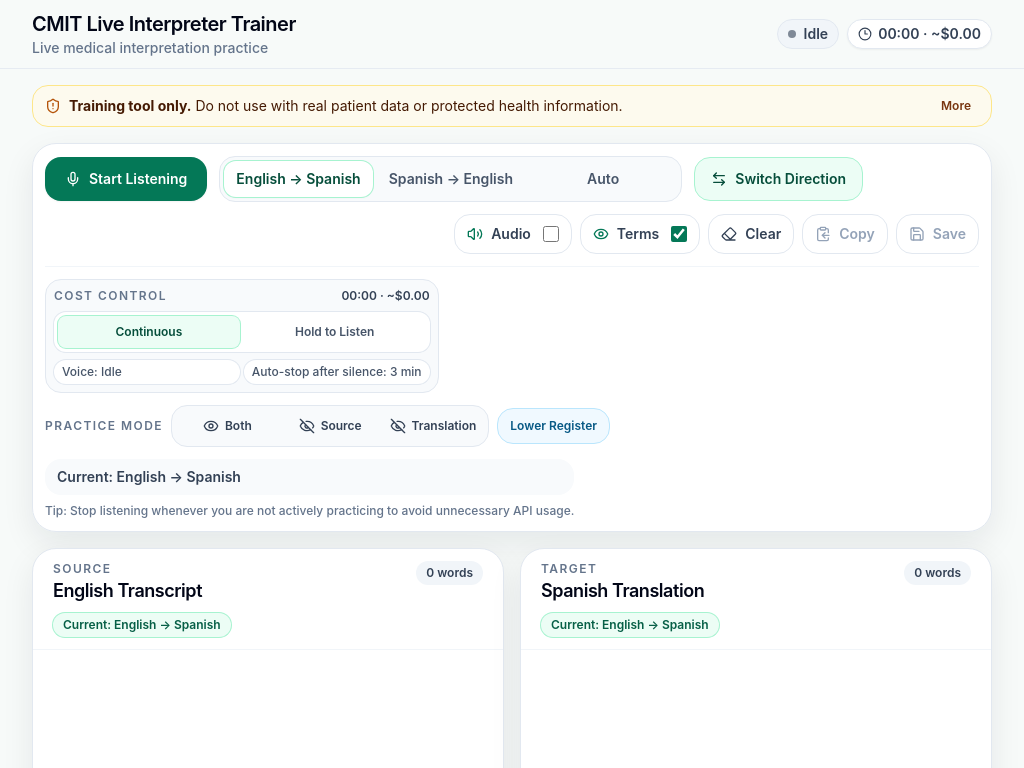
Test case: App microphone errors › shows an error when microphone permission fails
Click the button "Start Listening" at (126, 179), box [45,157,207,201]
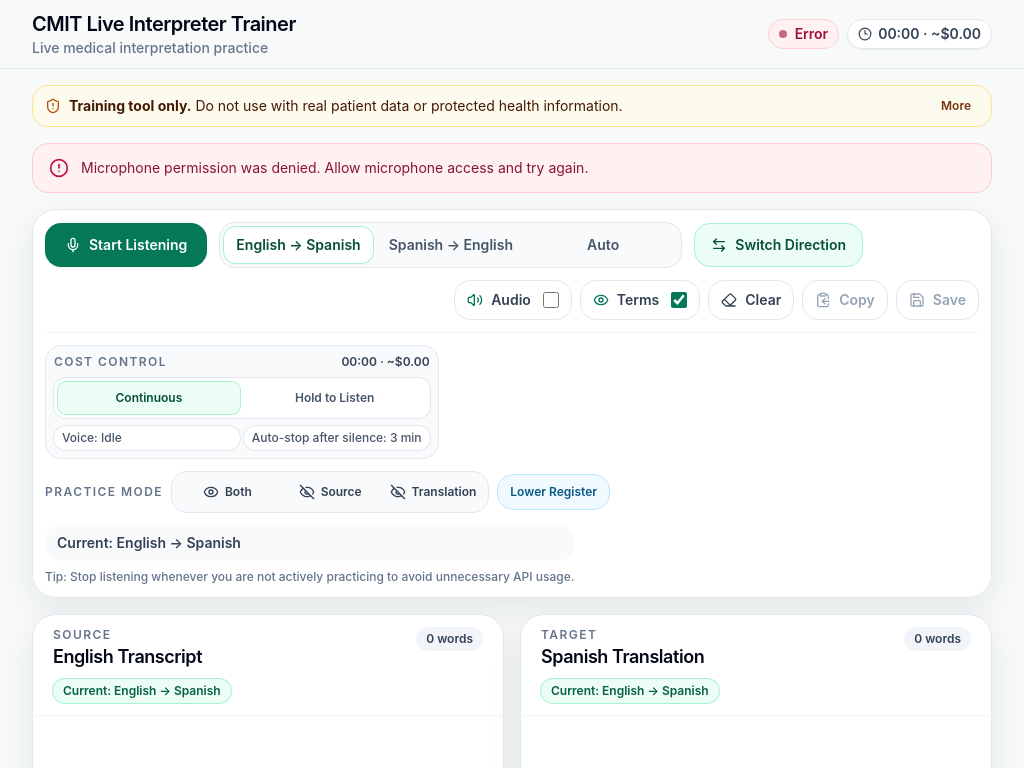
Expected: the message shows "Microphone permission was denied", [81,159,588,176]
Expected: the text "Error" is shown, [768,19,839,49]
